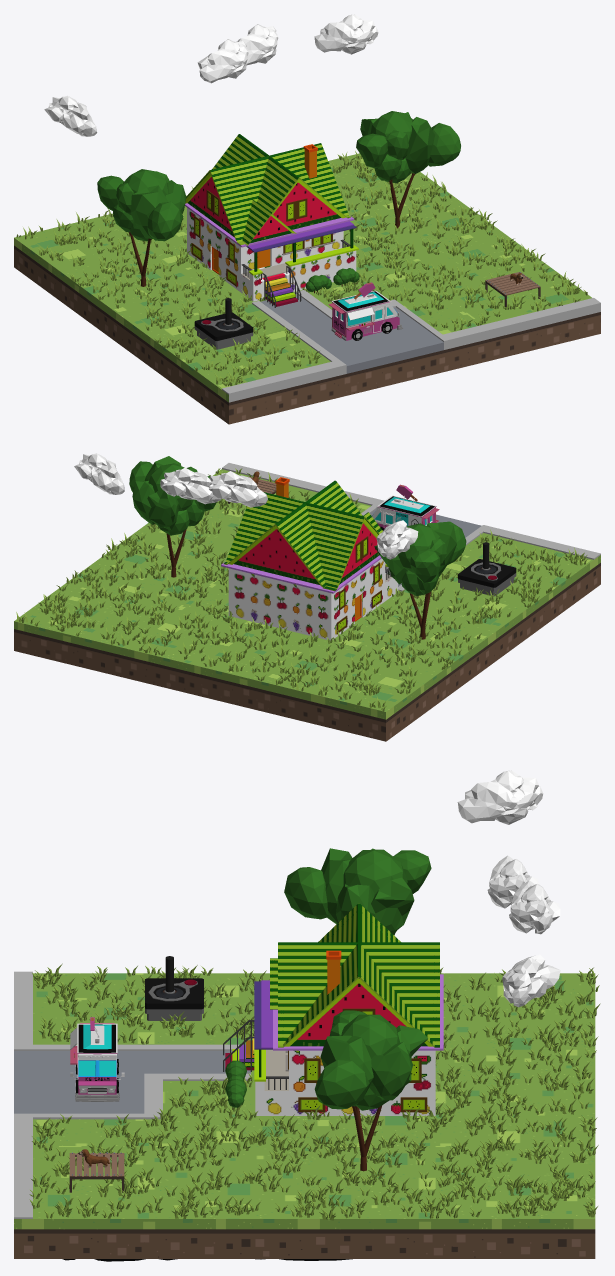
3 renders of one model, top to bottom at view 1: azimuth 30°, elevation 25°; view 2: azimuth 150°, elevation 25°; view 3: azimuth 270°, elevation 25°, orthographic. The views are drawn at different scales.
Parts seen in each view (by area): view 1: Cube.006, Cube.1063, Circle.012_Grass_0.192, Cube.007, tree, tree.001, VEHICLES_ICE_CREAM_TRUCK, OBJRANDOM_JOYSTICK, Cube.009; view 2: Cube.006, Cube.1063, Circle.012_Grass_0.192, Cube.007, tree.001, tree, OBJRANDOM_JOYSTICK, VEHICLES_ICE_CREAM_TRUCK; view 3: Cube.006, Circle.012_Grass_0.192, Cube.1063, tree, Cube.007, tree.001, VEHICLES_ICE_CREAM_TRUCK, OBJRANDOM_JOYSTICK, Cube.009.
Part boxes in pixels (bbox=[...]): Cube.006: bbox=[14, 153, 600, 424]; Cube.1063: bbox=[185, 134, 358, 307]; Circle.012_Grass_0.192: bbox=[16, 151, 587, 386]; Cube.007: bbox=[44, 14, 378, 136]; tree: bbox=[356, 111, 460, 228]; tree.001: bbox=[97, 169, 186, 286]; VEHICLES_ICE_CREAM_TRUCK: bbox=[328, 282, 402, 340]; OBJRANDOM_JOYSTICK: bbox=[194, 298, 253, 349]; Cube.009: bbox=[485, 272, 540, 306]; Cube.006: bbox=[14, 463, 600, 741]; Cube.1063: bbox=[221, 477, 397, 640]; Circle.012_Grass_0.192: bbox=[16, 468, 587, 711]; Cube.007: bbox=[74, 453, 418, 559]; tree.001: bbox=[374, 521, 466, 639]; tree: bbox=[129, 456, 216, 577]; OBJRANDOM_JOYSTICK: bbox=[458, 542, 516, 596]; VEHICLES_ICE_CREAM_TRUCK: bbox=[372, 484, 439, 530]; Cube.006: bbox=[14, 971, 595, 1258]; Circle.012_Grass_0.192: bbox=[29, 963, 600, 1220]; Cube.1063: bbox=[223, 903, 443, 1115]; tree: bbox=[314, 1010, 427, 1171]; Cube.007: bbox=[457, 770, 560, 1007]; tree.001: bbox=[284, 848, 431, 935]; VEHICLES_ICE_CREAM_TRUCK: bbox=[70, 1017, 124, 1101]; OBJRANDOM_JOYSTICK: bbox=[145, 956, 203, 1020]; Cube.009: bbox=[69, 1152, 124, 1192].
Bounding box in the file's own units: 4071 × 2149 × 4040.
44 materials, 5 textured.
